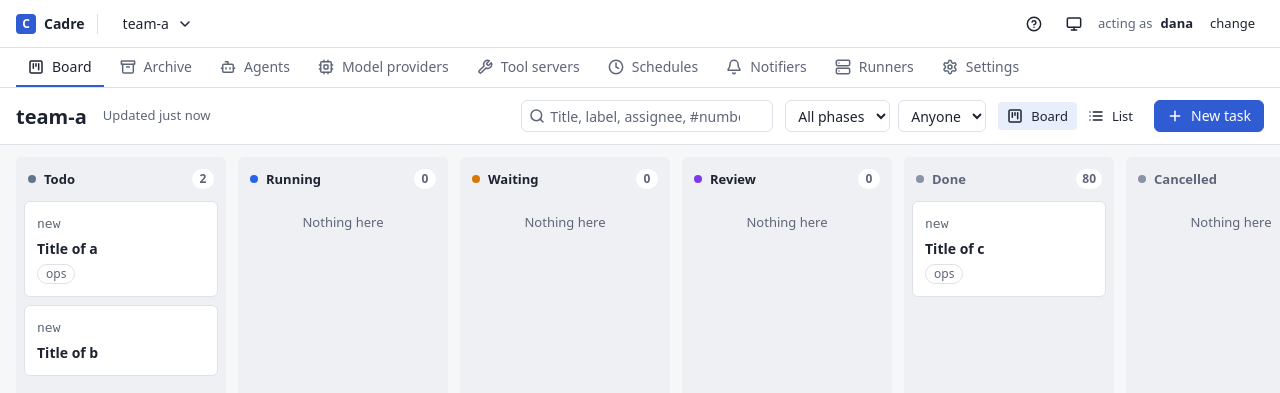
it: Board › sends the search trimmed to every phase once the typing pauses, and counts the board's matches
Expected: the link "Title of b" is shown, [37,343,98,362]
Type " op" into the search field named "Search the board".
click(647, 116); type(" op")  # box [521,100,773,132]
Wait 200 ms
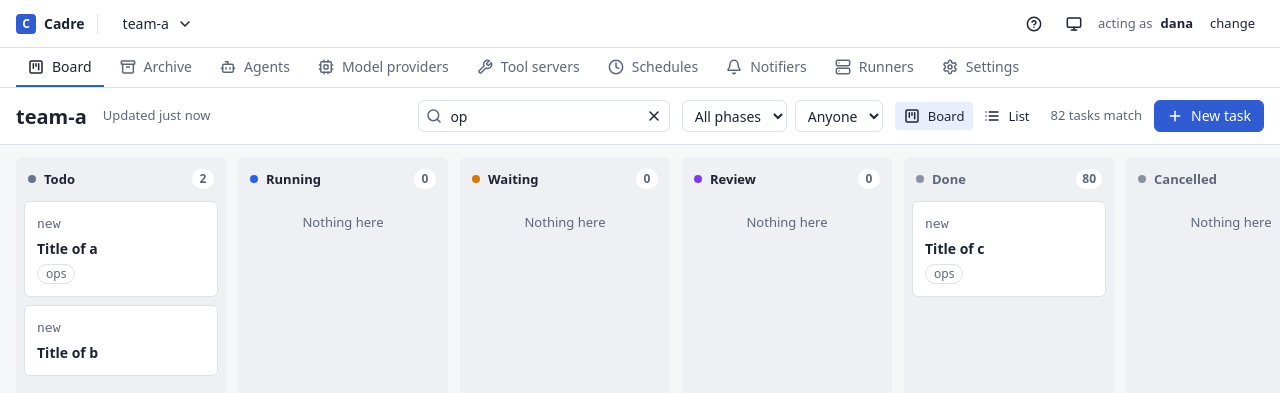
Replace the text in the search field named "Search the board" with " ops " at (544, 116), box [418,100,670,132]
Wait 350 ms
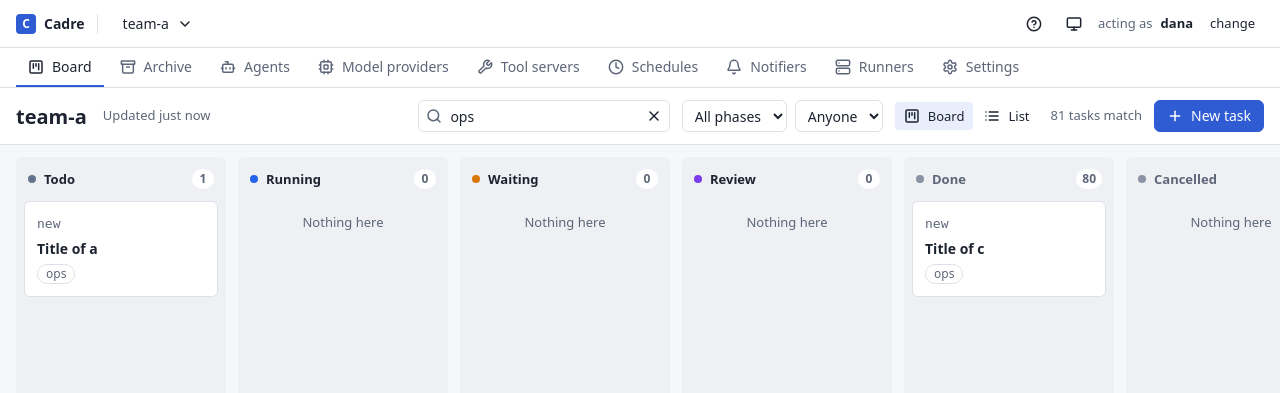
Expected: the link "Title of a" is shown, [37,238,98,258]
Result: the link "Title of b" is gone
Result: the text "81 tasks match" is shown at [1051,106,1142,126]
